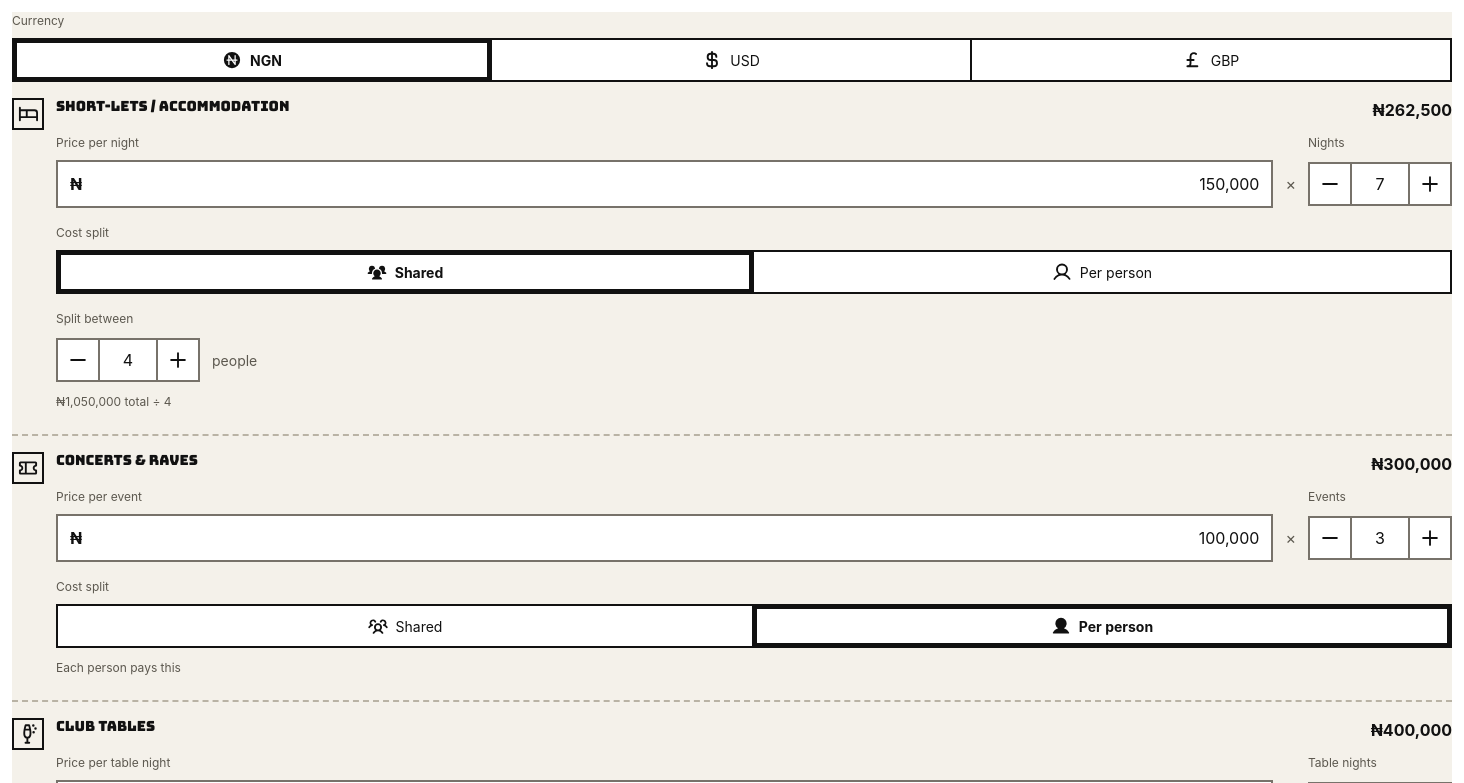
it: CurrencyControl › says the price fields stay in naira, only while the amounts are not naira
Expected: the text "Prices stay in ₦" is not shown
Click the text "USD". click: coordinates (731, 60)
box: [490, 38, 972, 82]
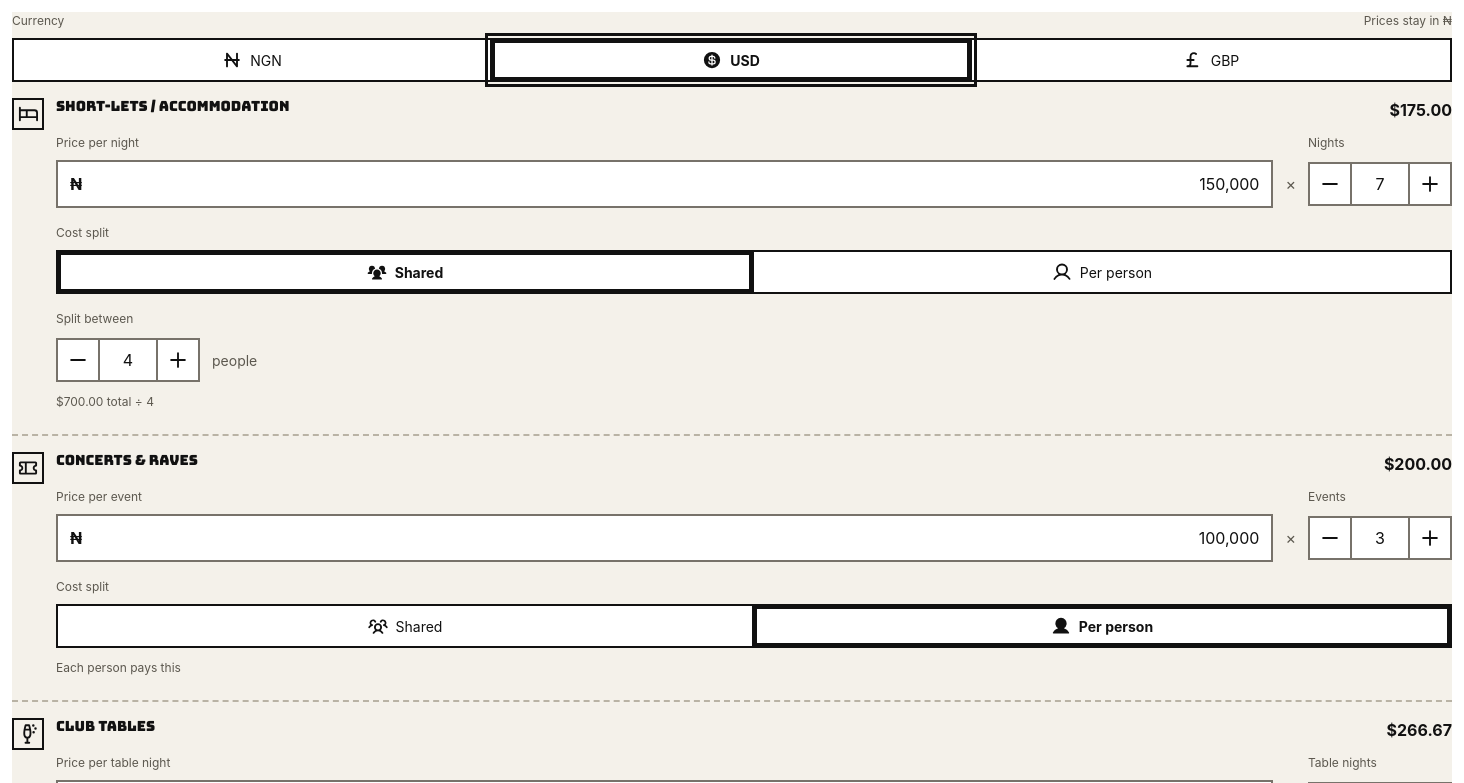
Click the text "GBP". click: coordinates (1211, 60)
box: [970, 38, 1452, 82]
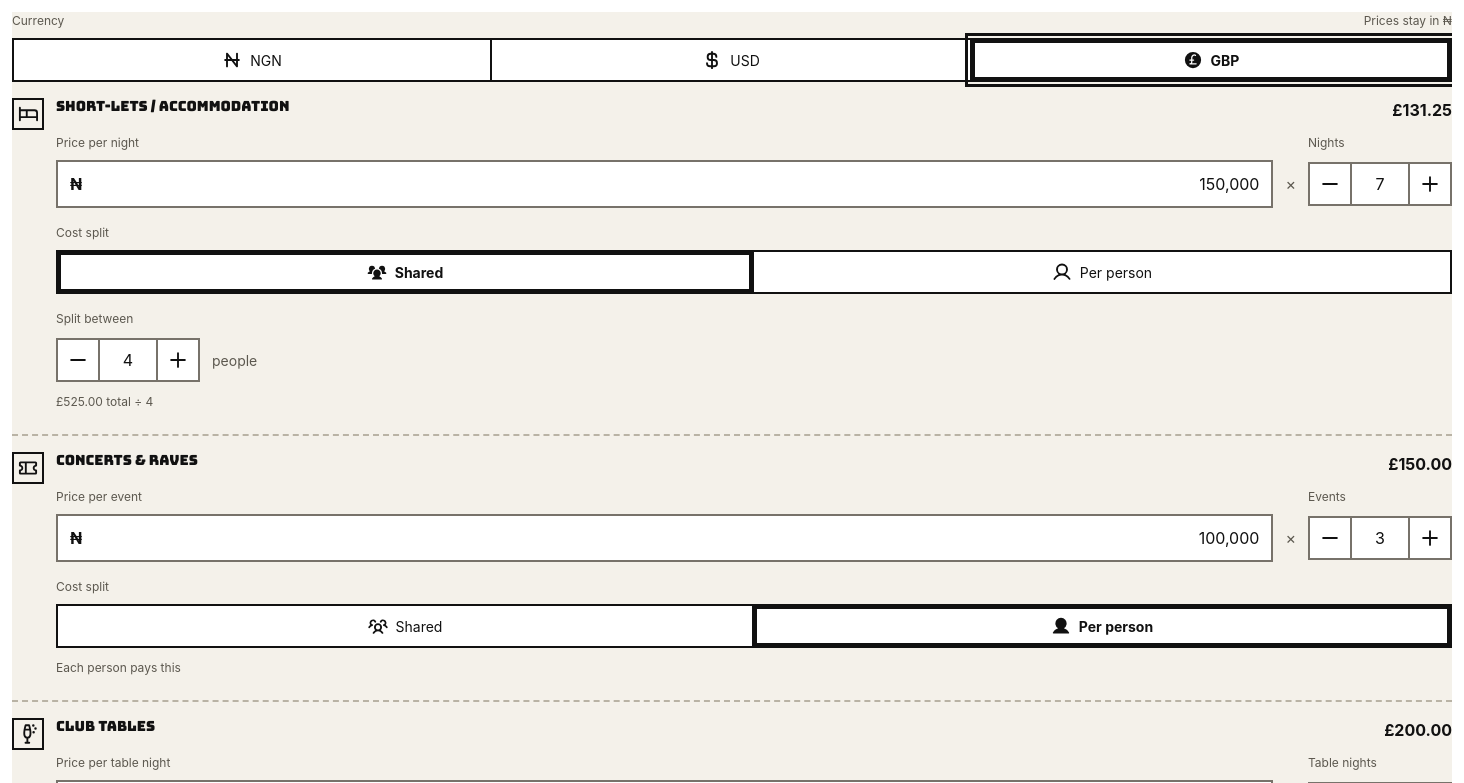
Expected: the text "Prices stay in ₦" is shown, [1364, 12, 1452, 30]
Click the text "NGN". click: coordinates (252, 60)
box: [12, 38, 492, 82]
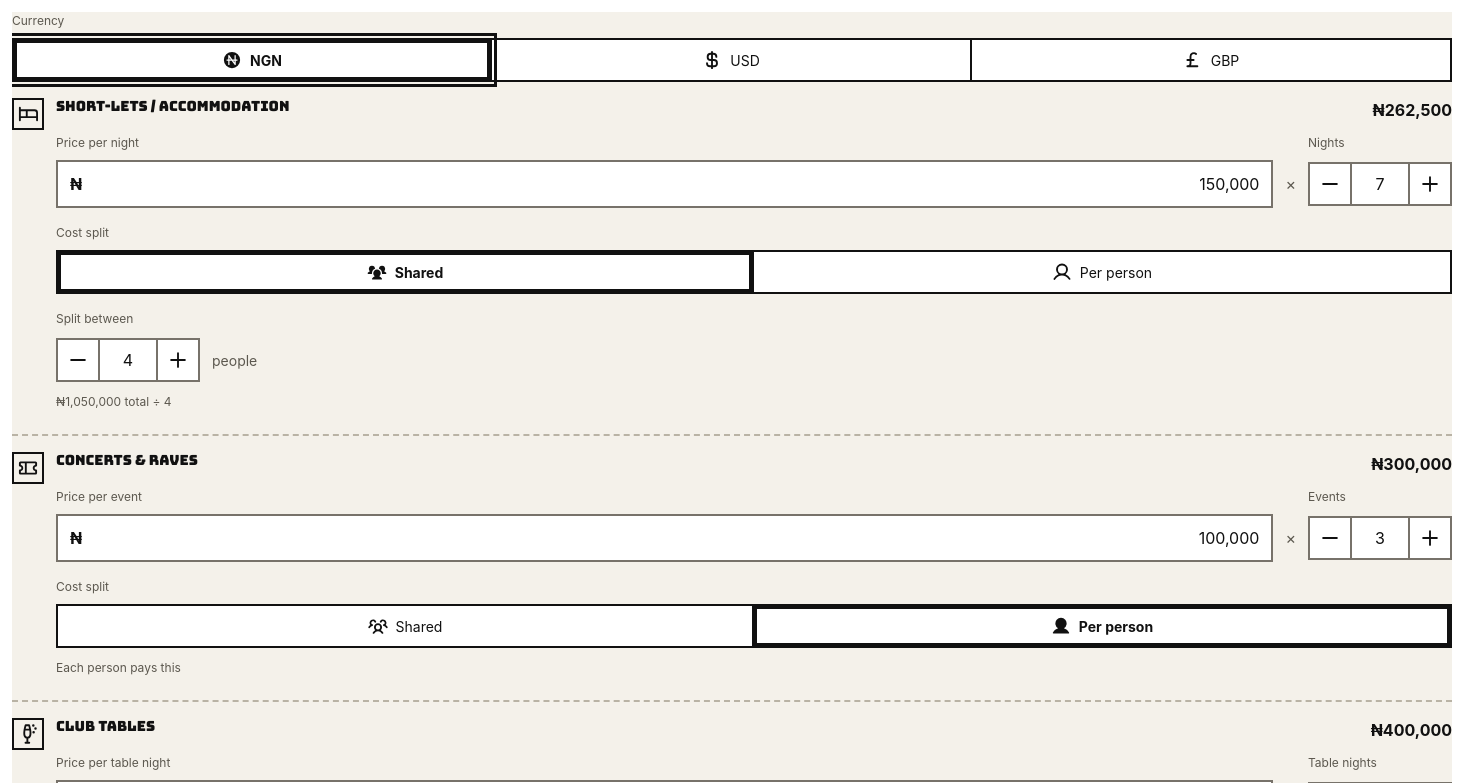
Expected: the text "Prices stay in ₦" is gone
